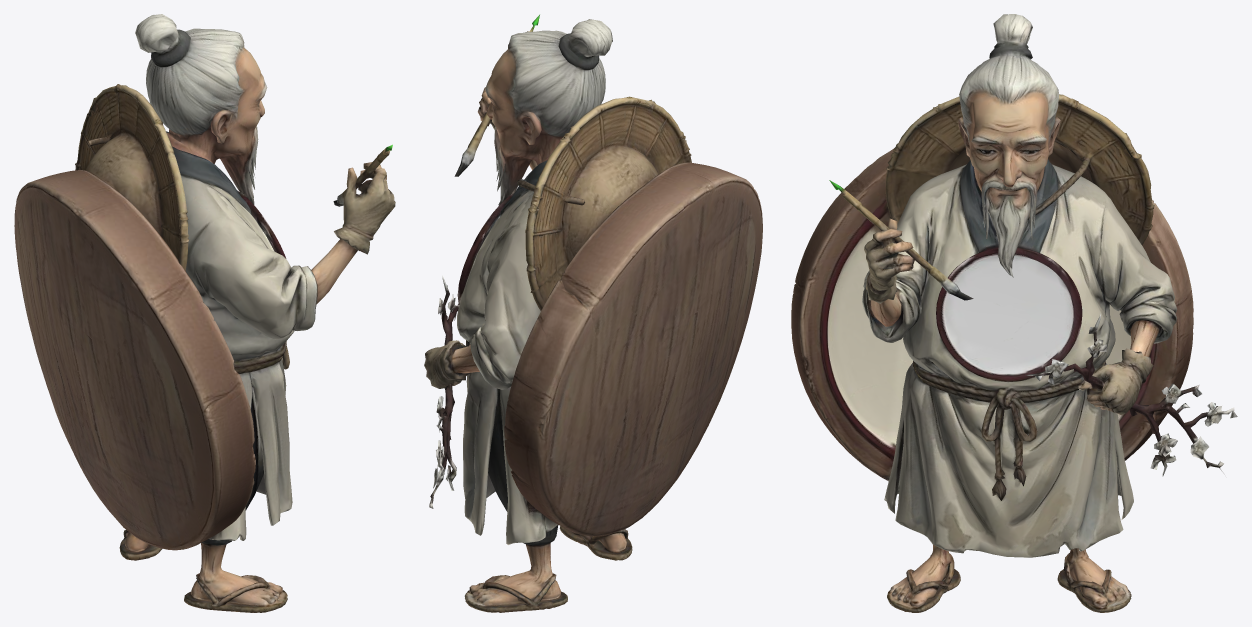
File: p_b1p_wangmian.glb
3 renders of one model, left to right at view 1: azimuth 30°, elevation 25°; view 2: azimuth 150°, elevation 25°; view 3: azimuth 270°, elevation 25°, orthographic.
Parts seen in each view (by area): view 1: tripo_node_41c73d56-54d5-4474-8a78-f31b31296627; view 2: tripo_node_41c73d56-54d5-4474-8a78-f31b31296627; view 3: tripo_node_41c73d56-54d5-4474-8a78-f31b31296627.
Part boxes in pixels (x1,y1,x2,y2): tripo_node_41c73d56-54d5-4474-8a78-f31b31296627: (14,14,395,612); tripo_node_41c73d56-54d5-4474-8a78-f31b31296627: (424,14,762,612); tripo_node_41c73d56-54d5-4474-8a78-f31b31296627: (791,14,1237,612).
Bounding box in the file's own units: 0.4949 × 0.981 × 0.7084.
Materials: 1 (1 with a texture image).
